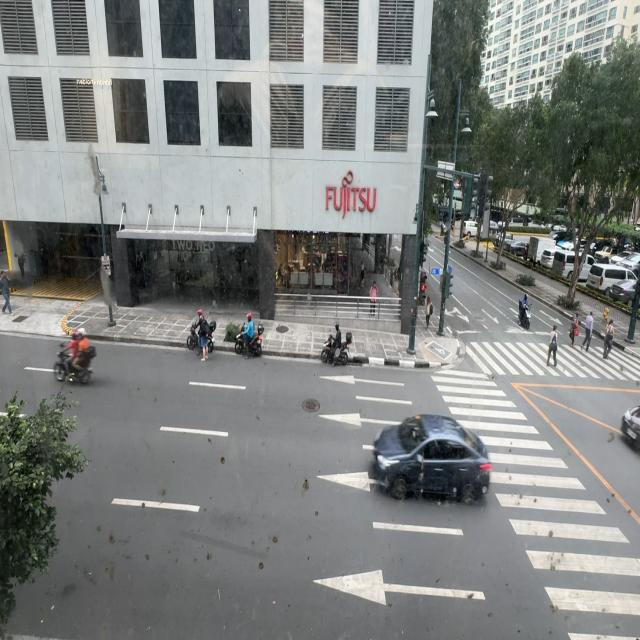crossing: (547, 324, 559, 367), (602, 320, 614, 362), (583, 311, 594, 351), (568, 314, 578, 348)
